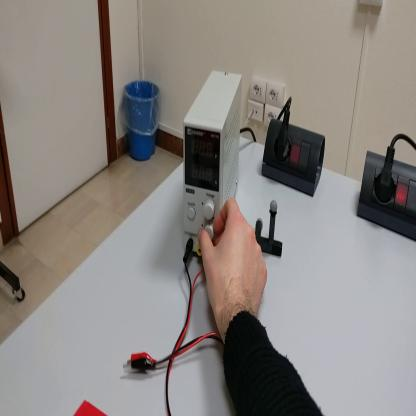hand: (199, 200, 269, 326)
power supply: (183, 73, 243, 260)
register: (75, 401, 106, 415)
socket: (261, 118, 328, 198), (359, 148, 416, 242)
